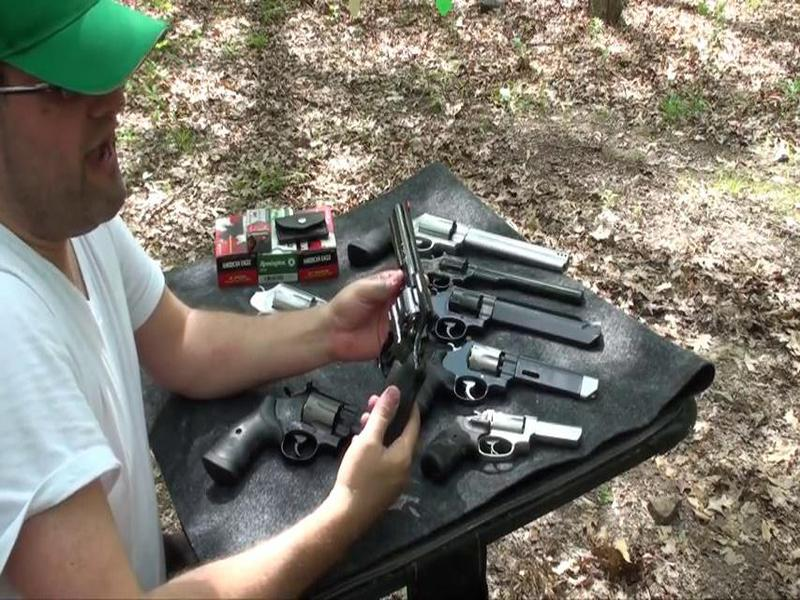Revolver: (357, 214, 445, 441)
